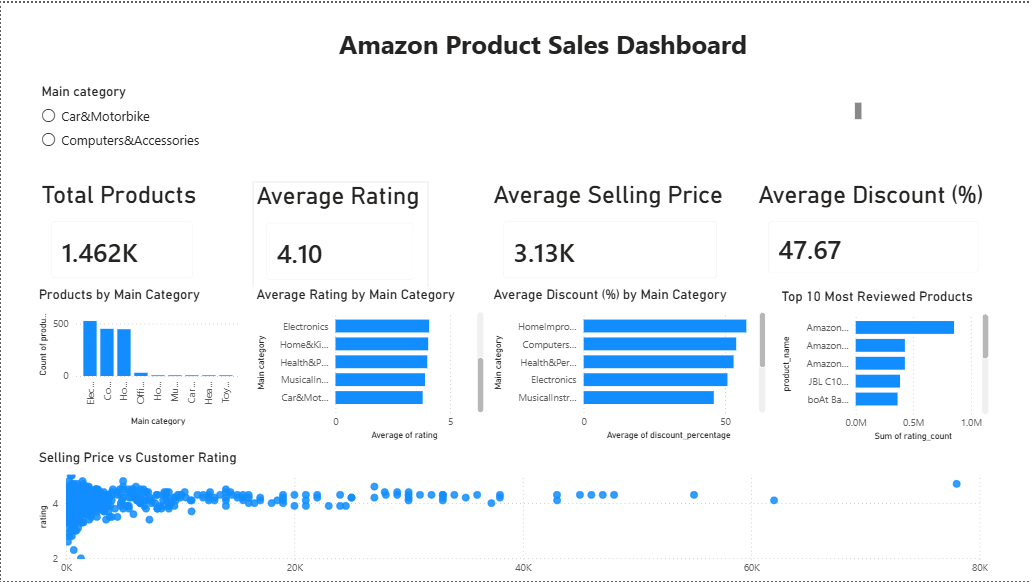

The page's visual inventory and layout, read from the dashboard file:
{"tool":"powerbi","page":{"name":"Page 1","canvas":[1280,720],"ordinal":0},"visuals":[{"type":"cardVisual","title":"Total Products","fields":{"Data":["CountNonNull(amazon_cleaned_data.product_id)"]},"box":[45,220,210,140],"z":0},{"type":"cardVisual","title":"Average Rating","fields":{"Data":["Avg(amazon_cleaned_data.rating)"]},"box":[312.5,222.5,217.5,140],"z":1000},{"type":"cardVisual","title":"Average Selling Price","fields":{"Data":["Avg(amazon_cleaned_data.discounted_price)"]},"box":[606.7,220,300,140],"z":2000},{"type":"cardVisual","title":"Average Discount (%)","fields":{"Data":["Avg(amazon_cleaned_data.discount_percentage)"]},"box":[936.4,220,296.4,132.7],"z":3000},{"type":"clusteredBarChart","title":"Top 10 Most Reviewed Products","fields":{"Category":["amazon_cleaned_data.product_name"],"Y":["Sum(amazon_cleaned_data.rating_count)"]},"box":[965,353.8,267.5,195],"z":4000},{"type":"clusteredColumnChart","title":"Products by Main Category","fields":{"Category":["amazon_cleaned_data.Main category"],"Y":["CountNonNull(amazon_cleaned_data.product_id)"]},"box":[42.5,352.5,260,177.5],"z":5000},{"type":"barChart","title":"Average Rating by Main Category","fields":{"Category":["amazon_cleaned_data.Main category"],"Y":["Avg(amazon_cleaned_data.rating)"]},"box":[312.5,352.5,292.5,195],"z":6000},{"type":"barChart","title":"Average Discount (%) by Main Category","fields":{"Category":["amazon_cleaned_data.Main category"],"Y":["Avg(amazon_cleaned_data.discount_percentage)"]},"box":[606.7,353.3,348.3,195],"z":7000},{"type":"scatterChart","title":"Selling Price vs Customer Rating","fields":{"X":["amazon_cleaned_data.discounted_price"],"Y":["amazon_cleaned_data.rating"]},"box":[42,554,1190,166],"z":8000},{"type":"listSlicer","fields":{"Values":["amazon_cleaned_data.Main category"]},"box":[45.5,100,1029.1,90.9],"z":9000},{"type":"textbox","box":[302,24,744,56],"z":10000}]}

Visuals, with their boxes in screenshot pixels (x1, y1, x2, y2), scaled from the page's 1280x720 canvas onto the 1031x582 screenshot:
"Total Products" cardVisual: bbox(36, 178, 205, 291)
"Average Rating" cardVisual: bbox(252, 180, 427, 293)
"Average Selling Price" cardVisual: bbox(489, 178, 730, 291)
"Average Discount (%)" cardVisual: bbox(754, 178, 993, 285)
"Top 10 Most Reviewed Products" clusteredBarChart: bbox(777, 286, 993, 444)
"Products by Main Category" clusteredColumnChart: bbox(34, 285, 244, 428)
"Average Rating by Main Category" barChart: bbox(252, 285, 487, 443)
"Average Discount (%) by Main Category" barChart: bbox(489, 286, 769, 443)
"Selling Price vs Customer Rating" scatterChart: bbox(34, 448, 992, 581)
listSlicer - amazon_cleaned_data.Main category: bbox(37, 81, 866, 154)
textbox: bbox(243, 19, 843, 65)
